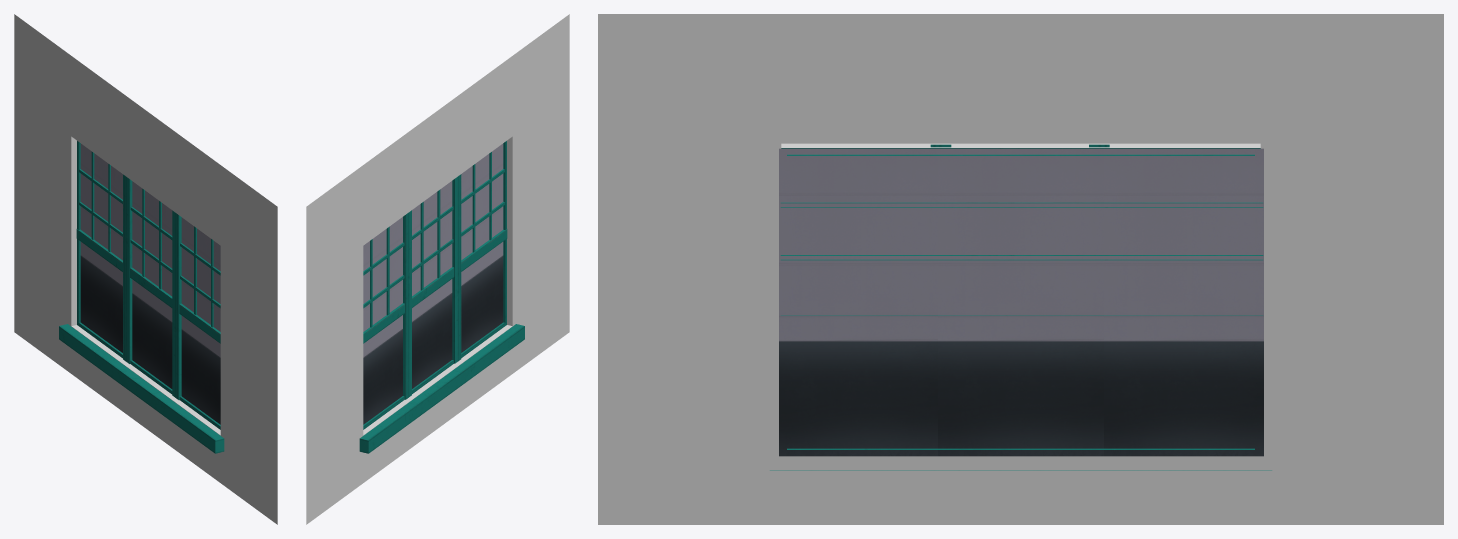
The model's file is MB_Wall_Window_D_02.fbx.
The picture shows the model from 3 angles, left to right: view 1: azimuth 30°, elevation 25°; view 2: azimuth 150°, elevation 25°; view 3: azimuth 270°, elevation 25°; orthographic projection. The views are drawn at different scales.
Parts seen in each view (by area): view 1: MB_Wall_Window_D_02; view 2: MB_Wall_Window_D_02; view 3: MB_Wall_Window_D_02.
Boxes of the visible parts, left/top/right/bottom form: MB_Wall_Window_D_02: left=14, top=14, right=277, bottom=524; MB_Wall_Window_D_02: left=306, top=14, right=569, bottom=524; MB_Wall_Window_D_02: left=598, top=14, right=1443, bottom=524.
Bounding box in the file's own units: 23.65 × 400 × 600.
